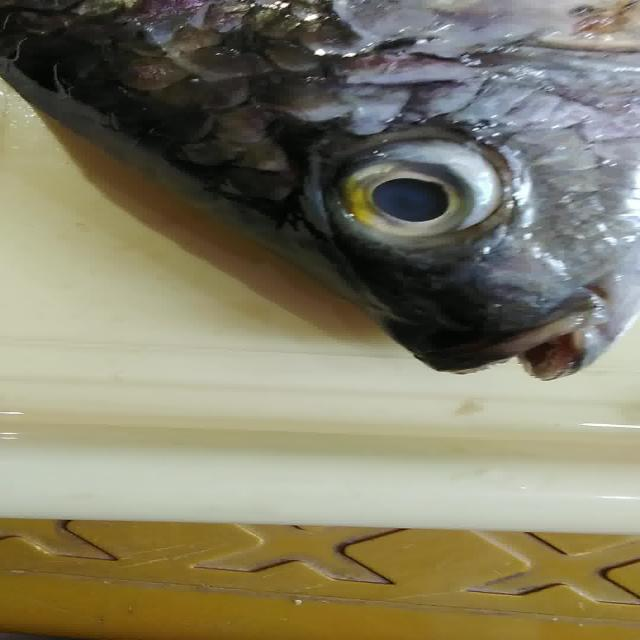Fresh: (310, 115, 545, 269)
